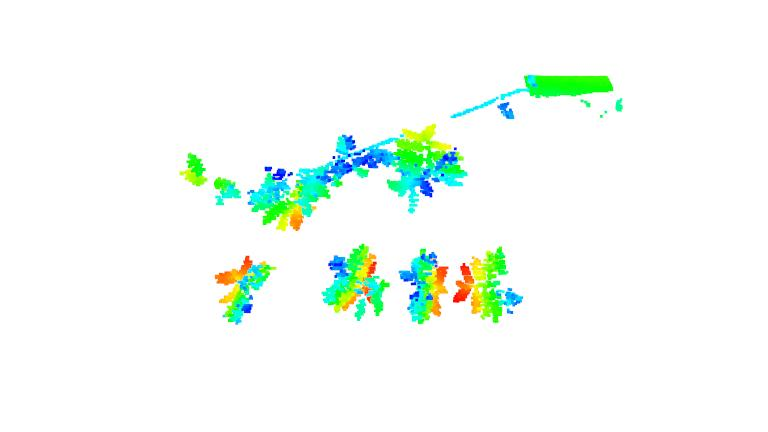chickpea: (296, 137, 399, 210), (389, 127, 470, 216), (325, 236, 396, 321), (450, 243, 527, 316), (215, 257, 281, 328), (174, 154, 247, 208), (252, 161, 307, 232), (399, 249, 451, 324)
